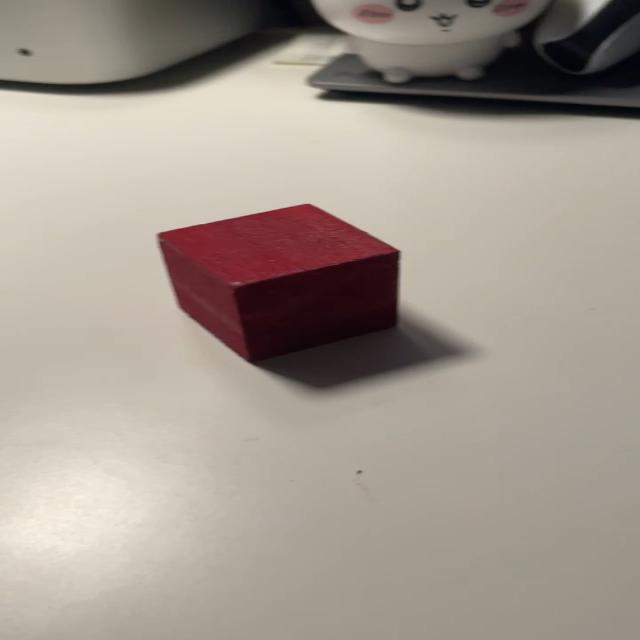red_block: (147, 197, 413, 359)
